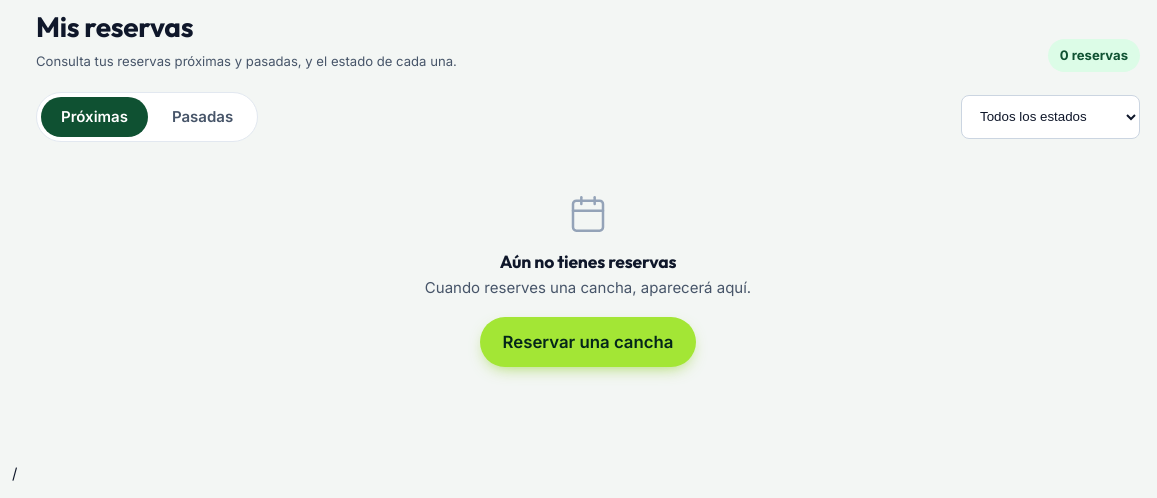
Test: MisReservasPage › cambia a la pestaña de pasadas y explica el historial vacío
The width and height of the screenshot is (1157, 498).
Expected: the heading "Aún no tienes reservas" is shown, [500, 250, 676, 273]
Click the tab "Pasadas" at (203, 116), box [152, 96, 253, 136]
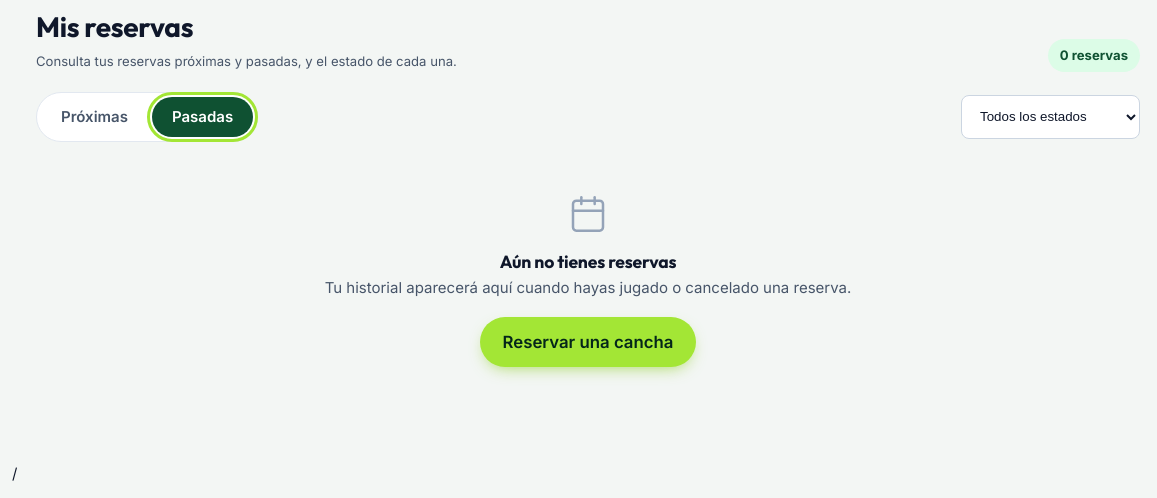
Result: the text "Tu historial aparecerá aquí" is shown at [325, 278, 851, 297]
